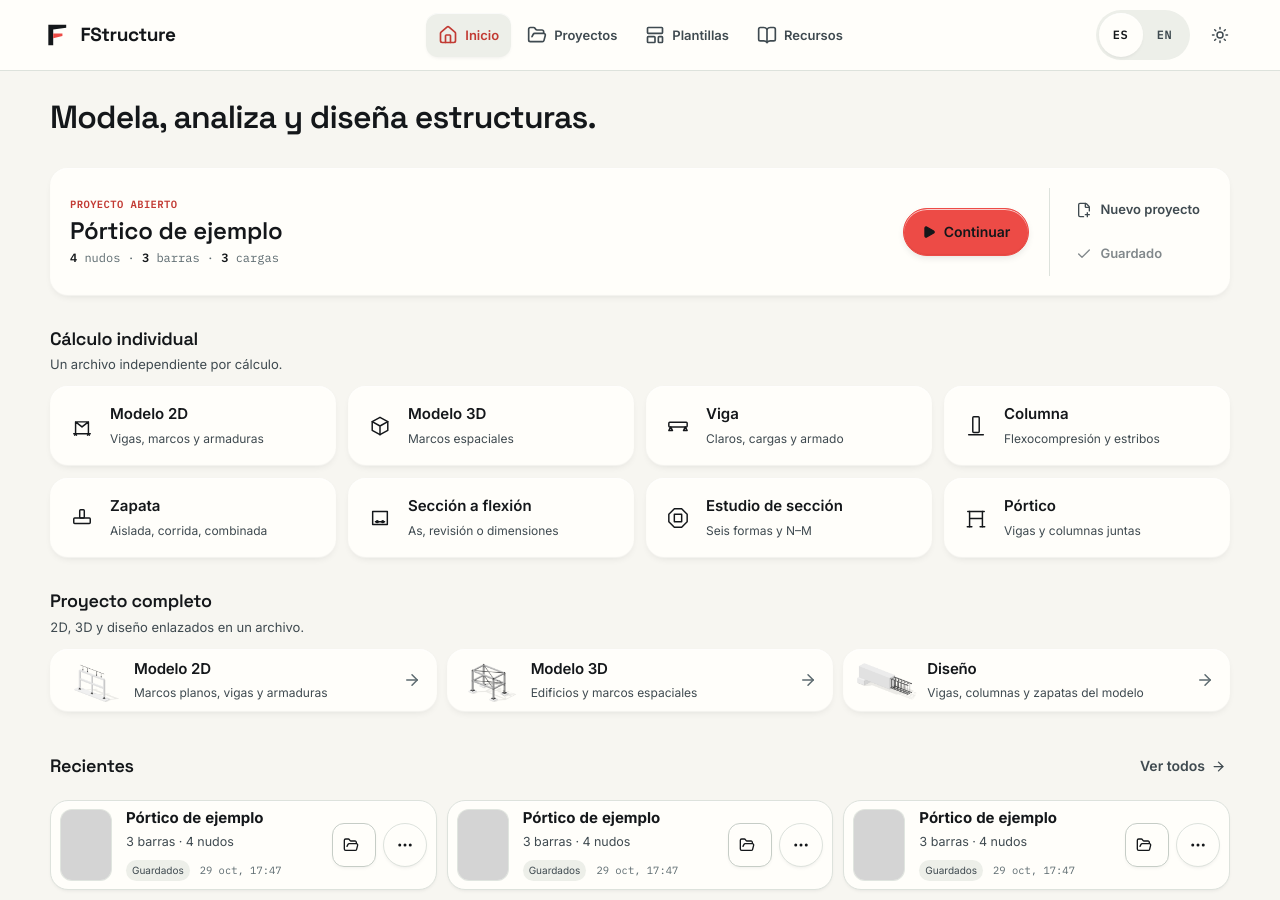
Test: standalone FStructure › la tarjeta Diseño de la Home abre el modo Diseño de la mesa
Click the button "Diseño Vigas, columnas y zapatas del modelo": (952,668) [843,649,1230,712]
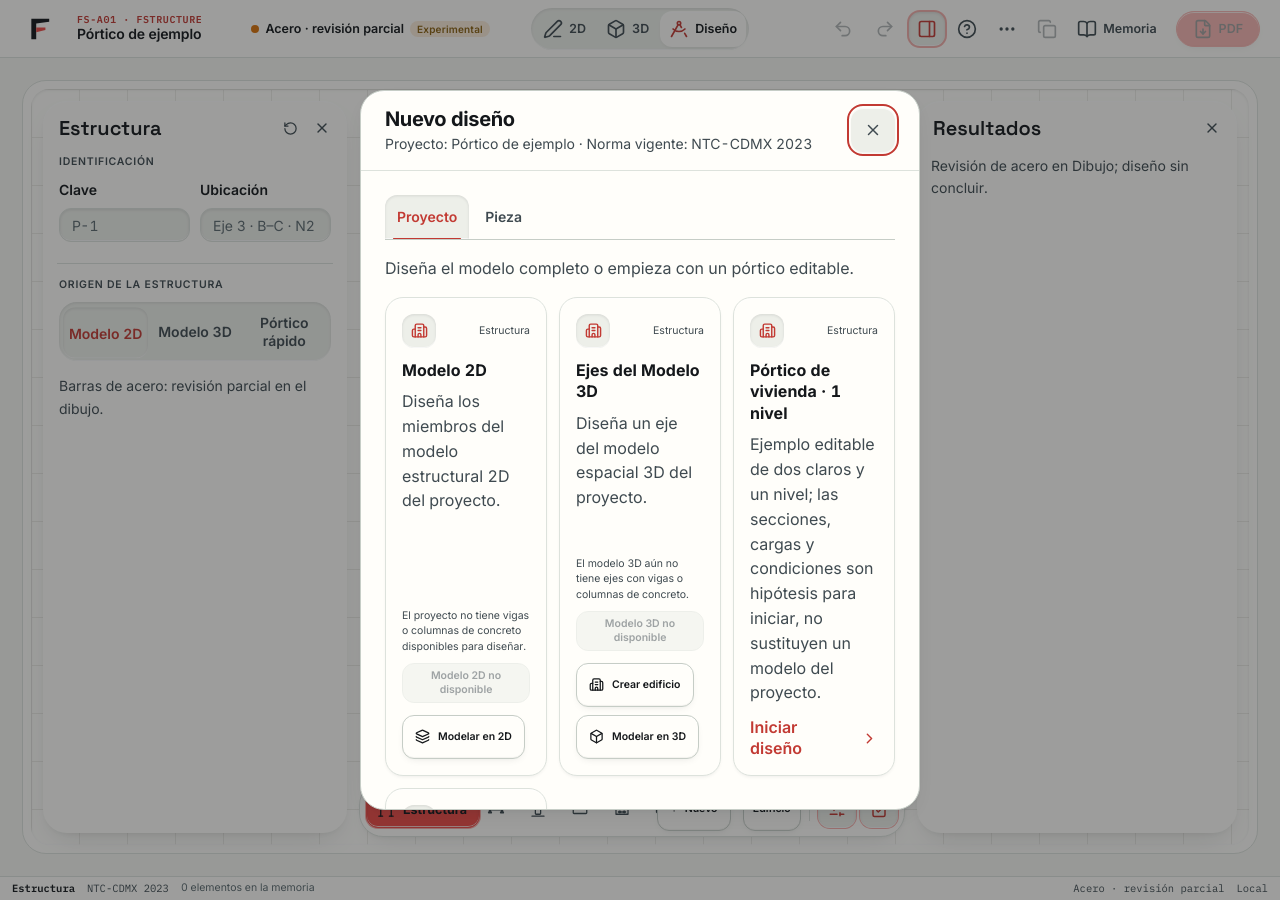
Expected: the element named "Elemento a diseñar" is shown, [366,790,644,828]
